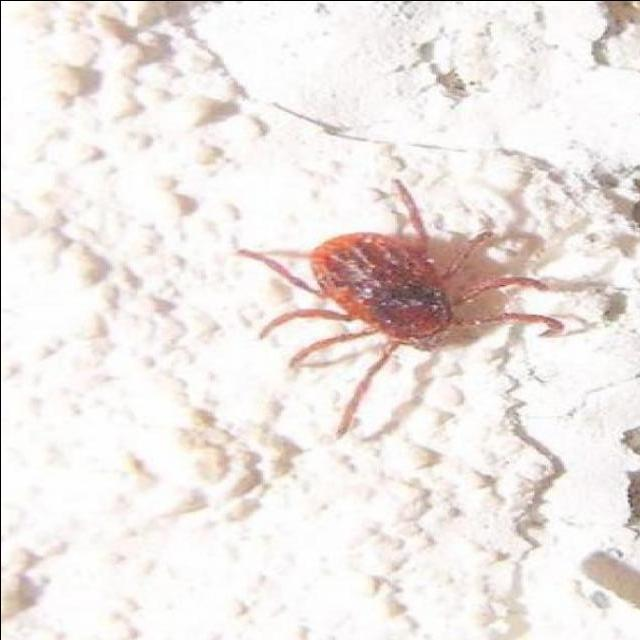Rhipicephalus Sanguineus-F: (234, 177, 565, 438)
